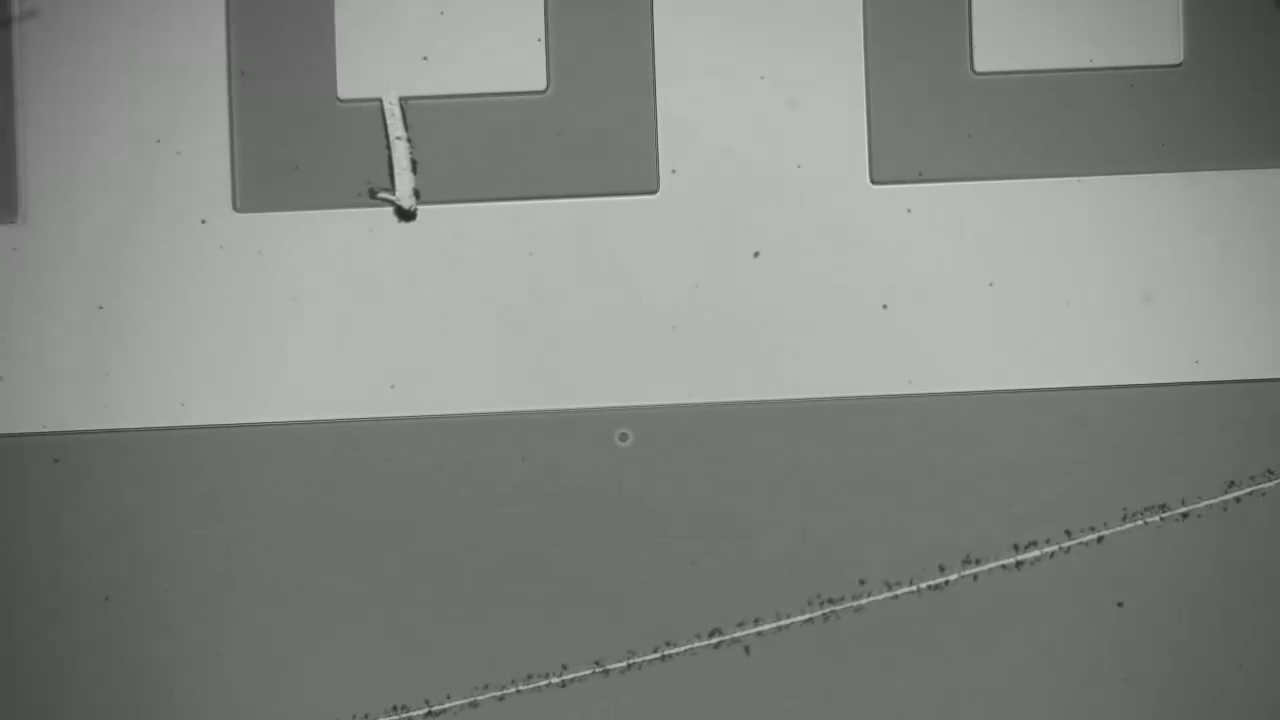scratch: (406, 473, 1279, 716), (356, 68, 444, 241)
